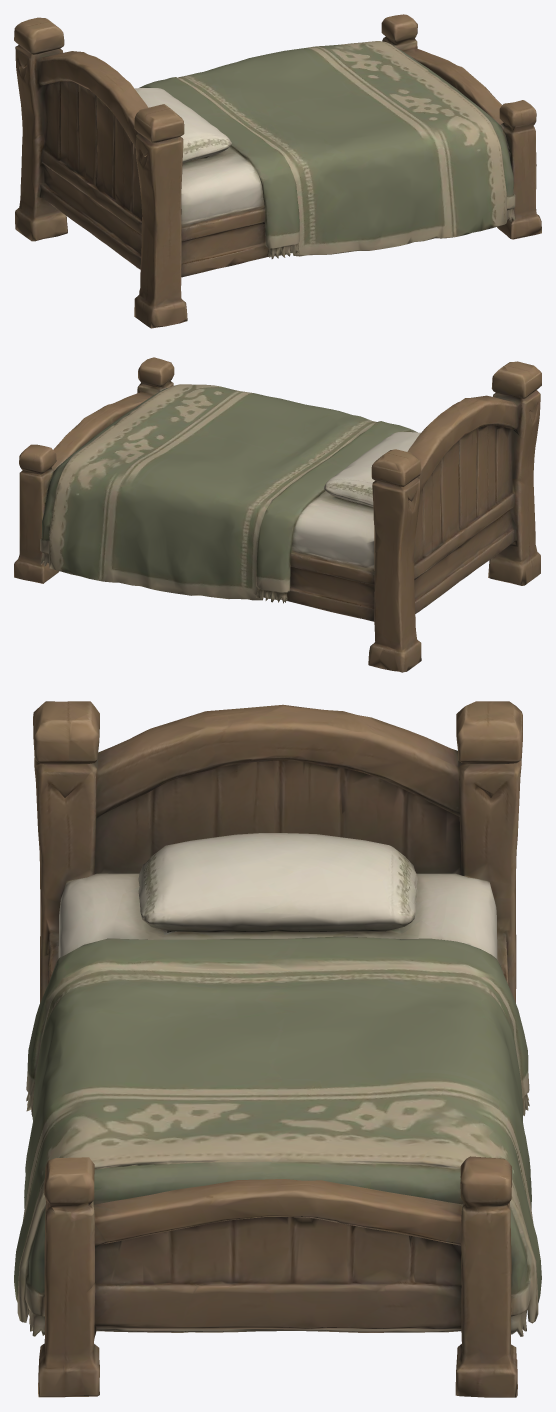
The model's file is cama.glb.
The picture shows the model from 3 angles, top to bottom: view 1: azimuth 30°, elevation 25°; view 2: azimuth 150°, elevation 25°; view 3: azimuth 270°, elevation 25°; orthographic projection. The views are drawn at different scales.
Parts seen in each view (by area): view 1: tripo_node_ec2d111c-5a82-45f1-b166-8d0e9fb0bad0; view 2: tripo_node_ec2d111c-5a82-45f1-b166-8d0e9fb0bad0; view 3: tripo_node_ec2d111c-5a82-45f1-b166-8d0e9fb0bad0.
Part boxes in pixels (x1=…): tripo_node_ec2d111c-5a82-45f1-b166-8d0e9fb0bad0: x1=14, y1=14, x2=541, y2=328; tripo_node_ec2d111c-5a82-45f1-b166-8d0e9fb0bad0: x1=14, y1=357, x2=541, y2=672; tripo_node_ec2d111c-5a82-45f1-b166-8d0e9fb0bad0: x1=14, y1=701, x2=541, y2=1397.
Bounding box in the file's own units: 1 × 0.506 × 0.6632.
1 material, 1 textured.
